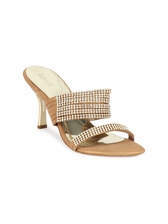shoes: (19, 62, 149, 159)
